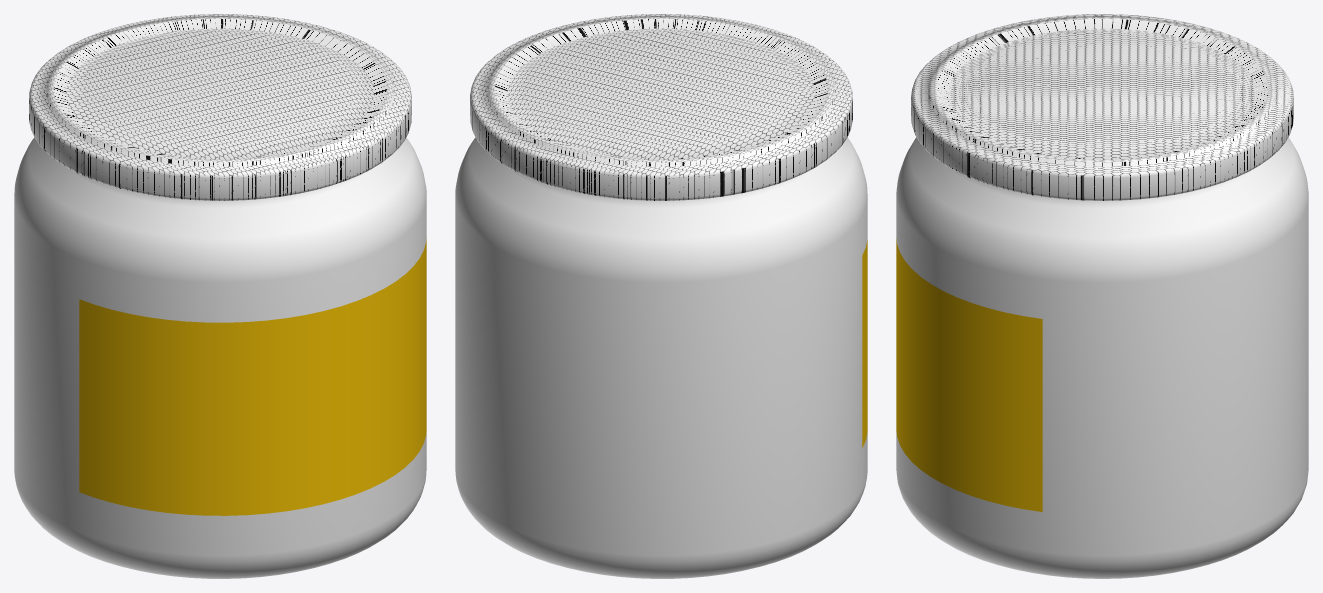
File: miele_dippi_4.glb
The picture shows the model from 3 angles, left to right: view 1: azimuth 30°, elevation 25°; view 2: azimuth 150°, elevation 25°; view 3: azimuth 270°, elevation 25°; orthographic projection.
Parts seen in each view (by area): view 1: vetro, etichetta, tappo; view 2: vetro, tappo, etichetta; view 3: vetro, tappo, etichetta.
Boxes of the visible parts, x1,y1,x2,y2 form: vetro: (14,137,426,578); etichetta: (79,239,426,515); tappo: (29,14,411,200); vetro: (455,137,867,578); tappo: (470,14,852,200); etichetta: (862,240,867,447); vetro: (896,137,1308,578); tappo: (911,14,1293,200); etichetta: (896,238,1042,511).
Bounding box in the file's own units: 0.08 × 0.0902 × 0.08.
4 materials, 1 textured.
